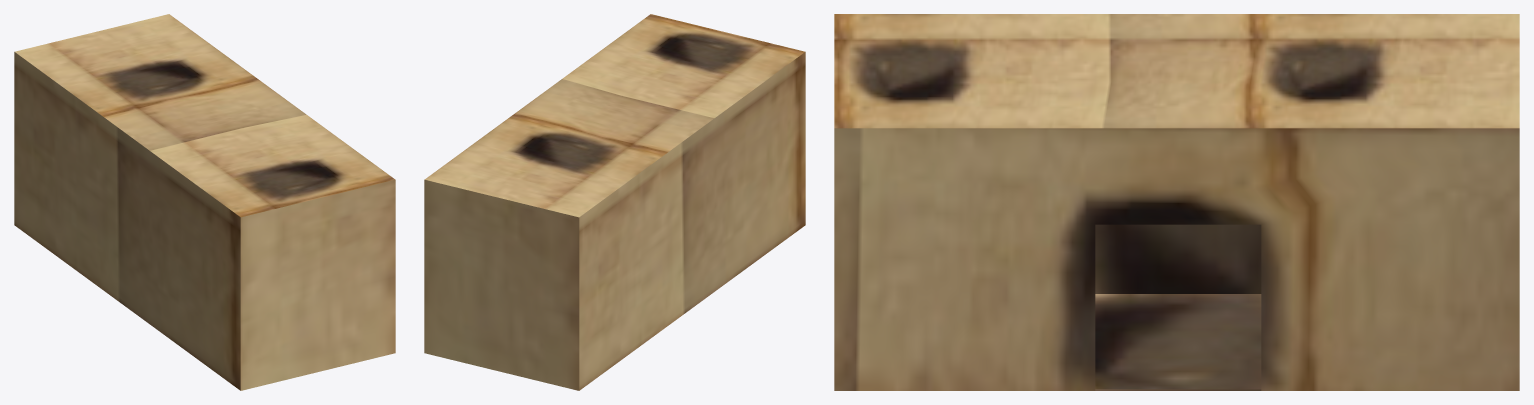
Rendered from oven.glb.
The picture shows the model from 3 angles, left to right: view 1: azimuth 30°, elevation 25°; view 2: azimuth 150°, elevation 25°; view 3: azimuth 270°, elevation 25°; orthographic projection. The views are drawn at different scales.
Parts seen in each view (by area): view 1: Cube; view 2: Cube; view 3: Cube.
Part boxes in pixels (box(x1,y1,x2,y2)): Cube: box(14, 14, 395, 390); Cube: box(424, 14, 805, 390); Cube: box(834, 14, 1519, 390).
Bounding box in the file's own units: 1.63 × 1.75 × 4.14.
Materials: 1 (1 with a texture image).
